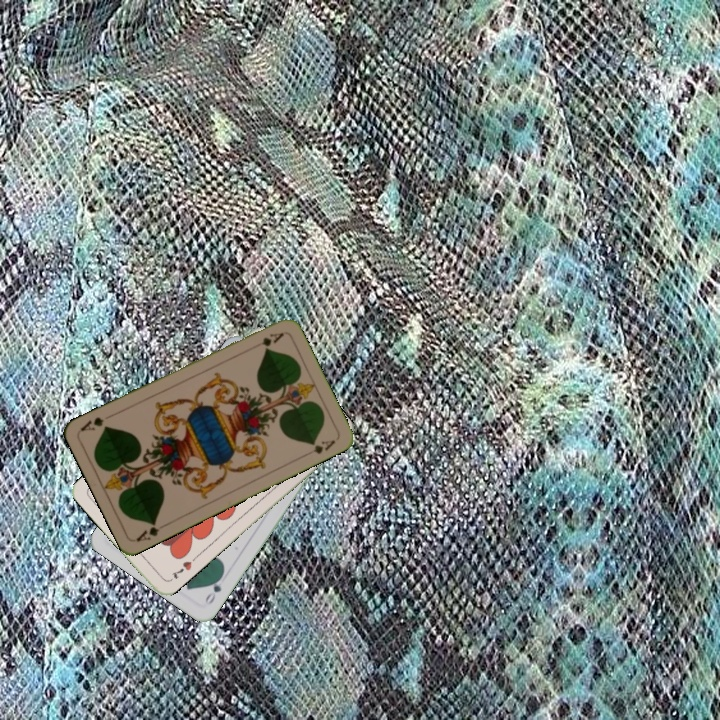GA: (132, 517, 170, 544), (248, 328, 287, 352)
GO: (201, 570, 226, 608)
H7: (167, 557, 194, 581)
